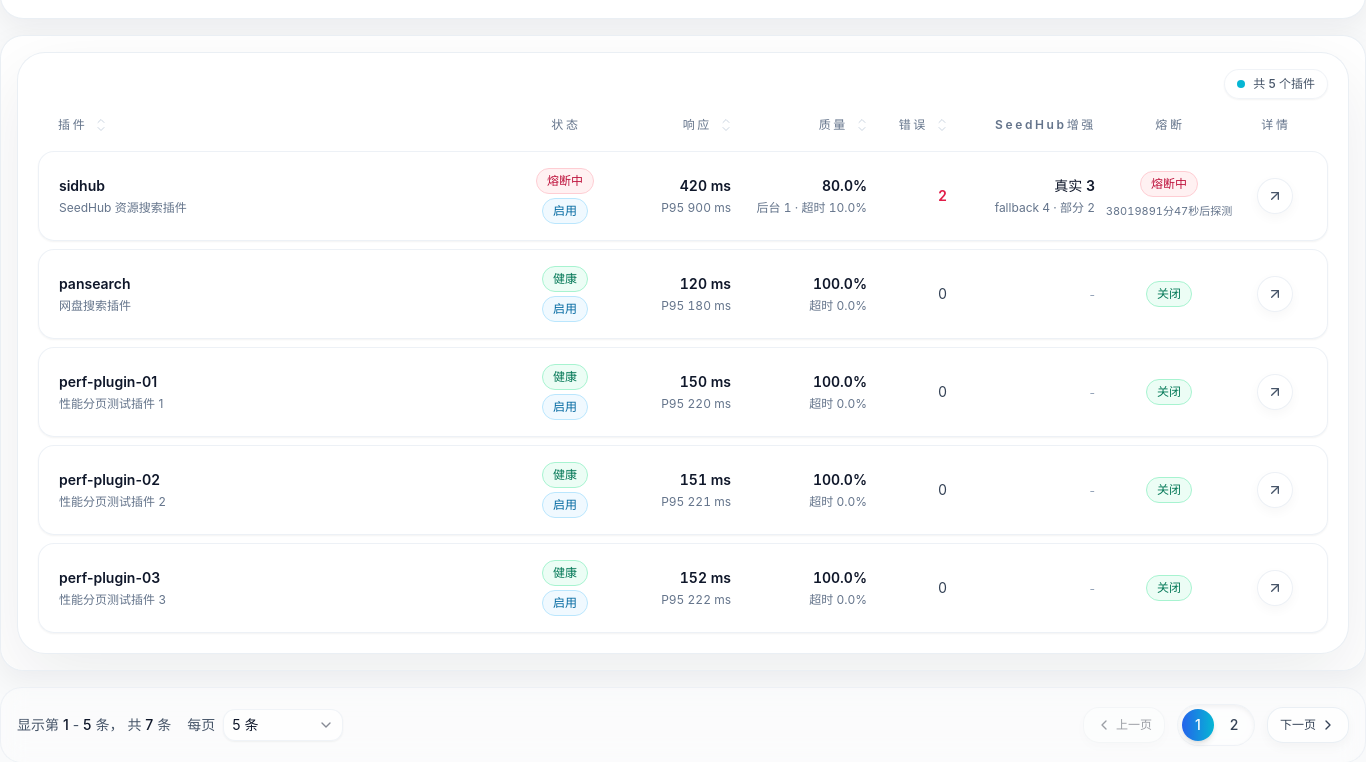
Test case: PluginPerformanceDashboard › 支持分页浏览插件性能表并切换每页条数
This screenshot has width=1366, height=762.
(page scrolled)
expect the text "perf-plugin-03" is shown: met, box [59,569,160,586]
expect the dropdown named "每页条数" is shown: met, box [223,709,343,741]
Click the button "下一页": (1308, 725) [1267,707,1349,743]
(page scrolled)
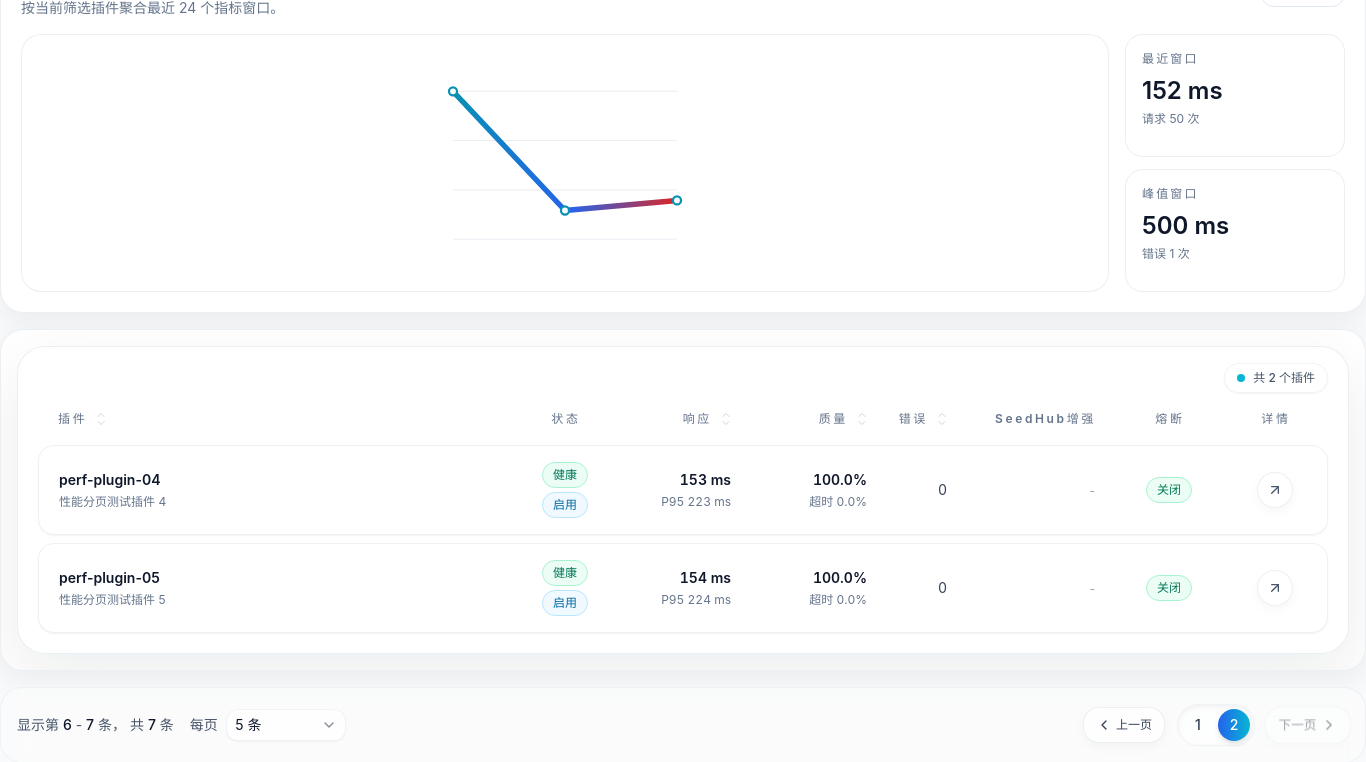
expect the text "perf-plugin-04" is shown: met, box [59,471,160,488]
Click the dropdown named "每页条数": (286, 725) [226,709,346,741]
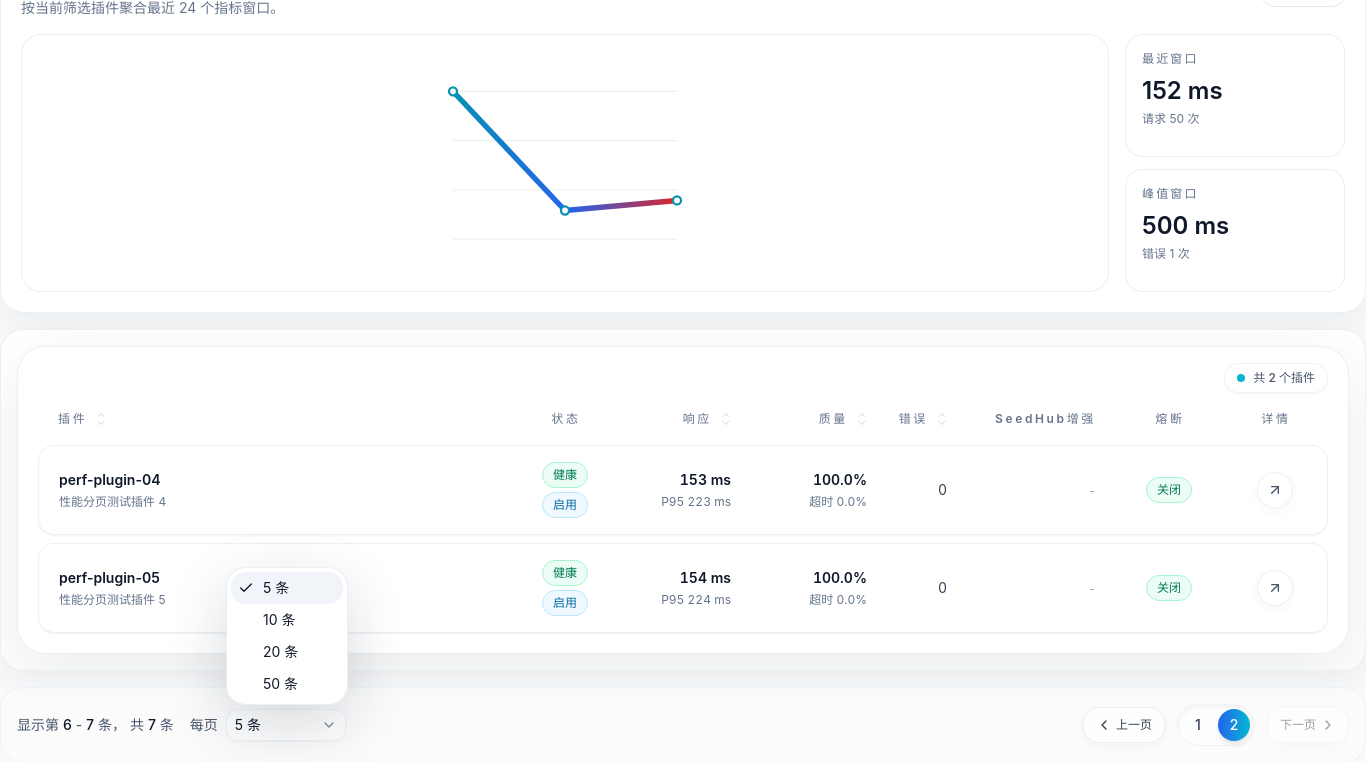
Click the option "10 条": (279, 620) [263,611,296,628]
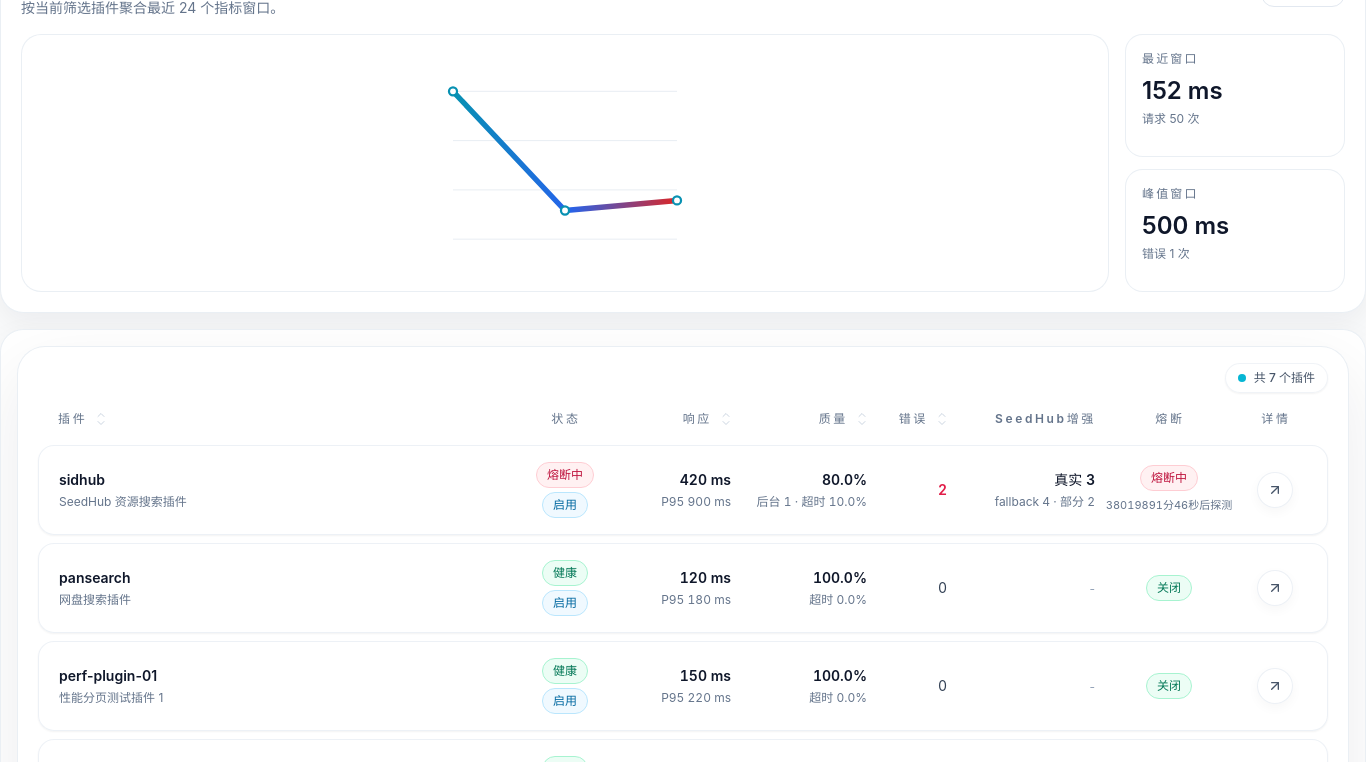
expect the text "sidhub" is shown: met, box [59,471,105,488]
